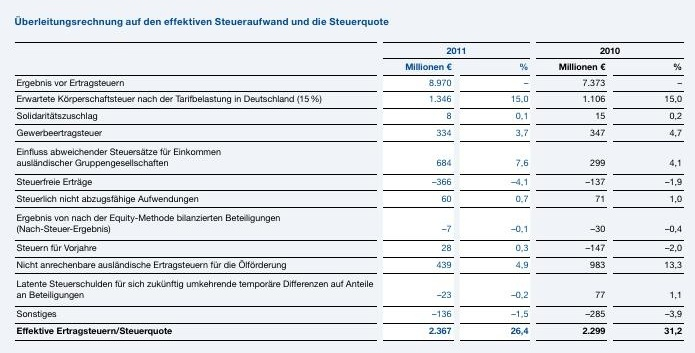table: (0, 0, 695, 353)
